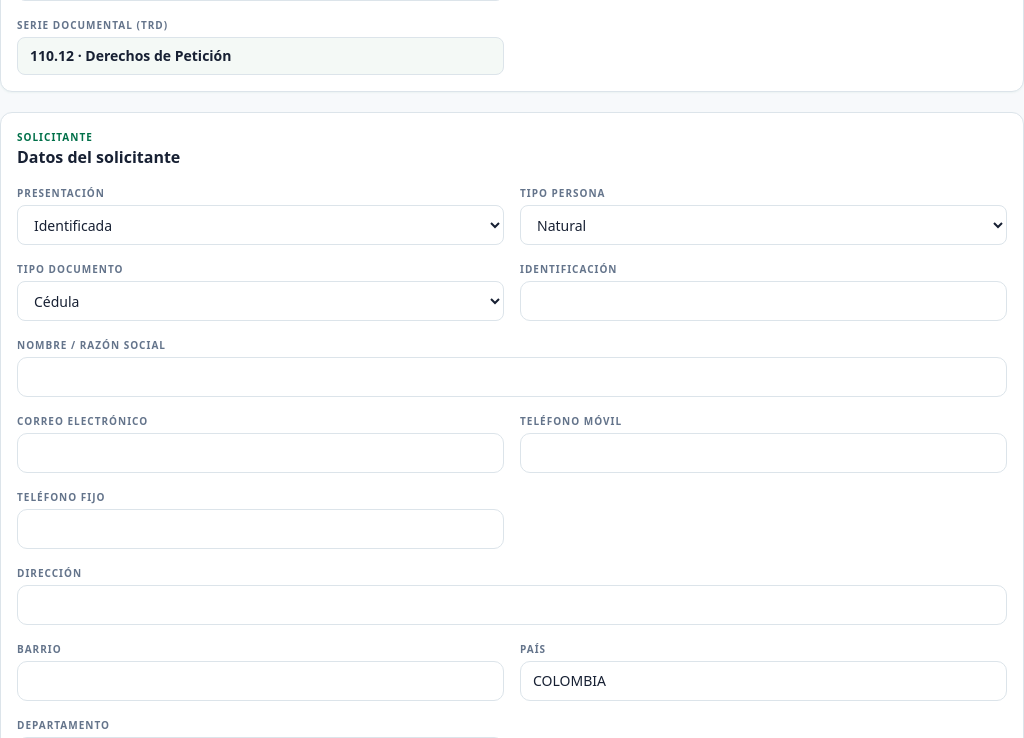
Test: Solicitante frecuente — autocompletar en el formulario › Escape cierra las sugerencias
(page scrolled)
Type "robinson" into the field labelled "Nombre / razón social" at (512, 377), box [17,357,1007,397]
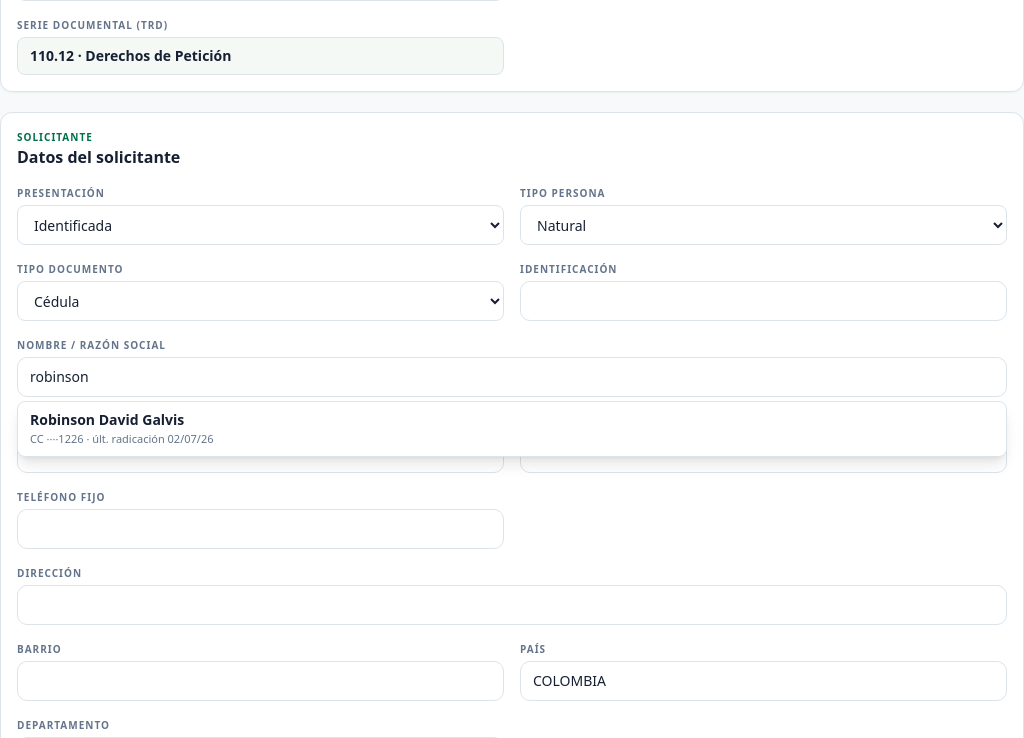
Now the list is shown, box [17,401,1007,457]
Press Escape in the field labelled "Nombre / razón social", box [17,357,1007,397]
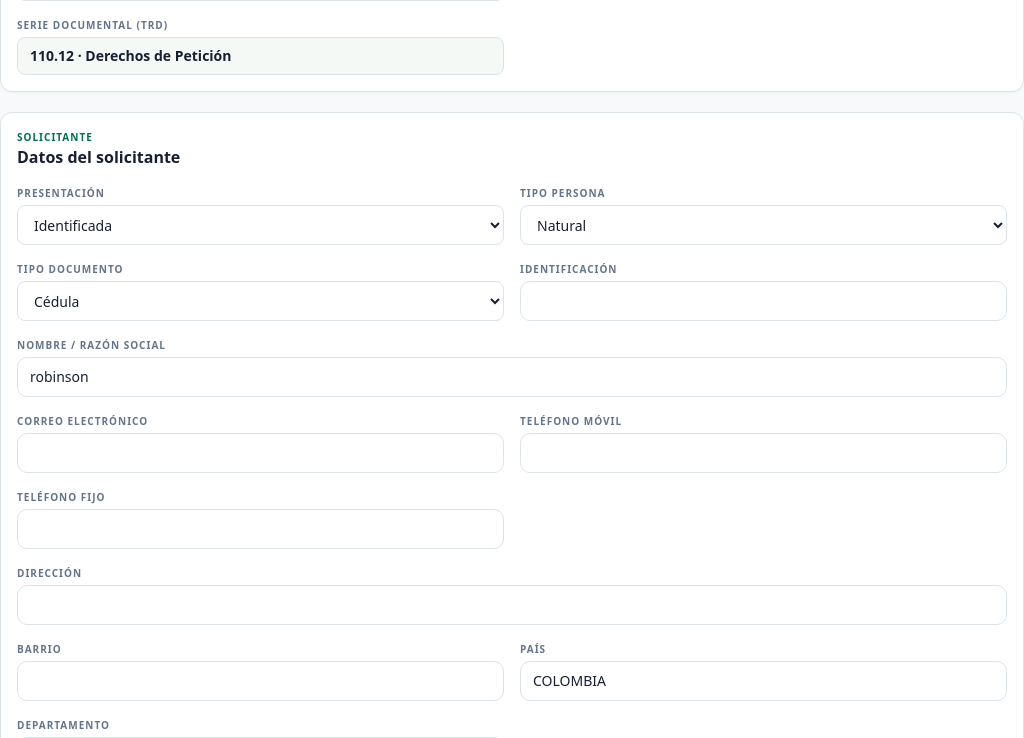
Now the list is gone
